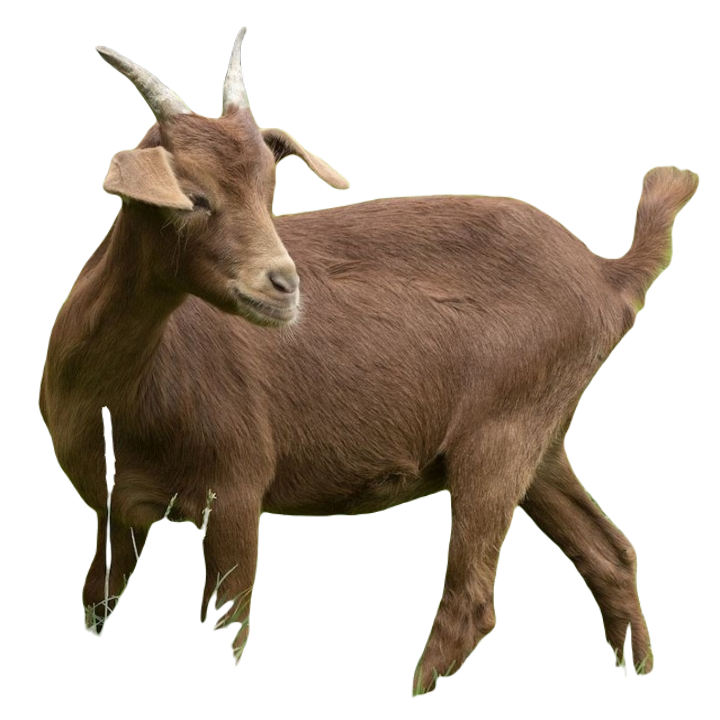Goat: (35, 26, 697, 695)
